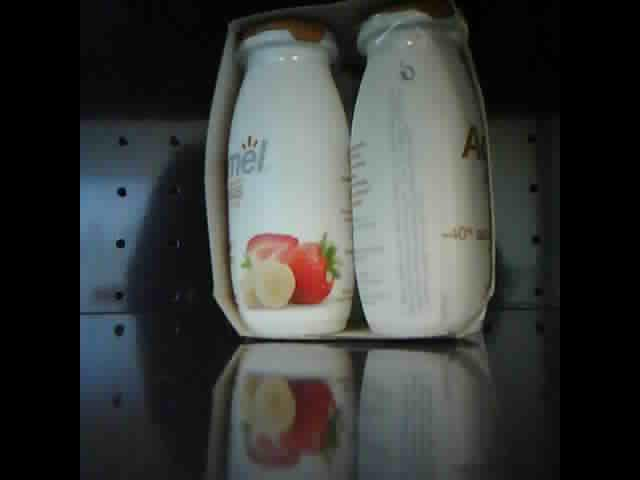actimel: (204, 6, 495, 341)
